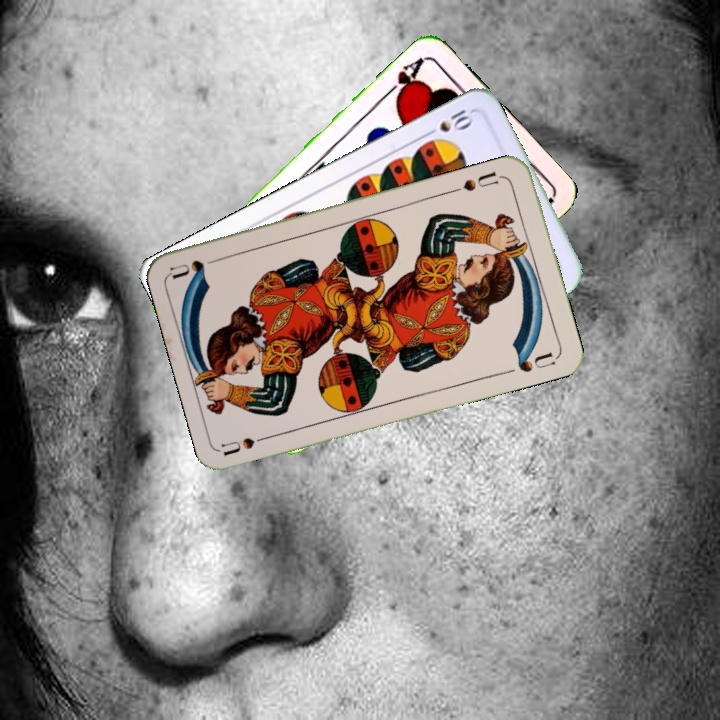HA: (380, 53, 427, 105)
S10: (420, 105, 476, 140)
SU: (219, 430, 278, 459), (449, 167, 507, 195)
